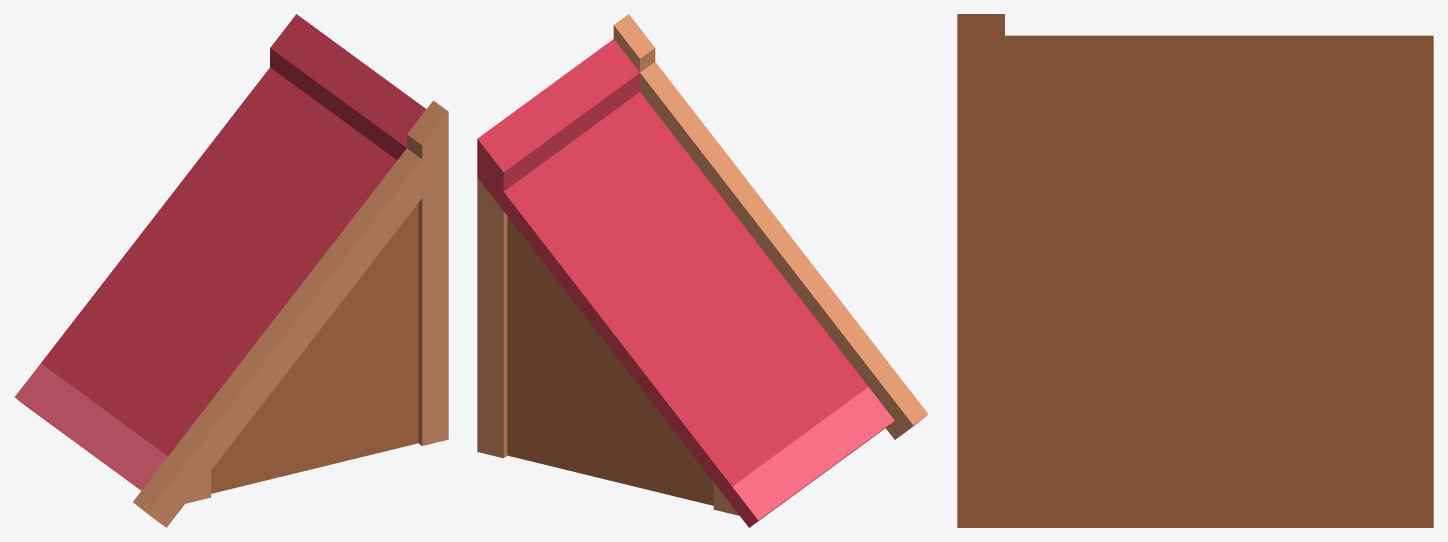
The model's file is roofHighRight.obj.
3 renders of one model, left to right at view 1: azimuth 30°, elevation 25°; view 2: azimuth 150°, elevation 25°; view 3: azimuth 270°, elevation 25°, orthographic. The views are drawn at different scales.
Visible parts, largest first — view 1: roofHighRight; view 2: roofHighRight; view 3: roofHighRight.
Boxes of the visible parts, <box> form: roofHighRight: <box>15,14,448,527</box>; roofHighRight: <box>477,14,928,527</box>; roofHighRight: <box>957,14,1433,527</box>.
Bounding box in the file's own units: 1.14 × 1.26 × 1.
